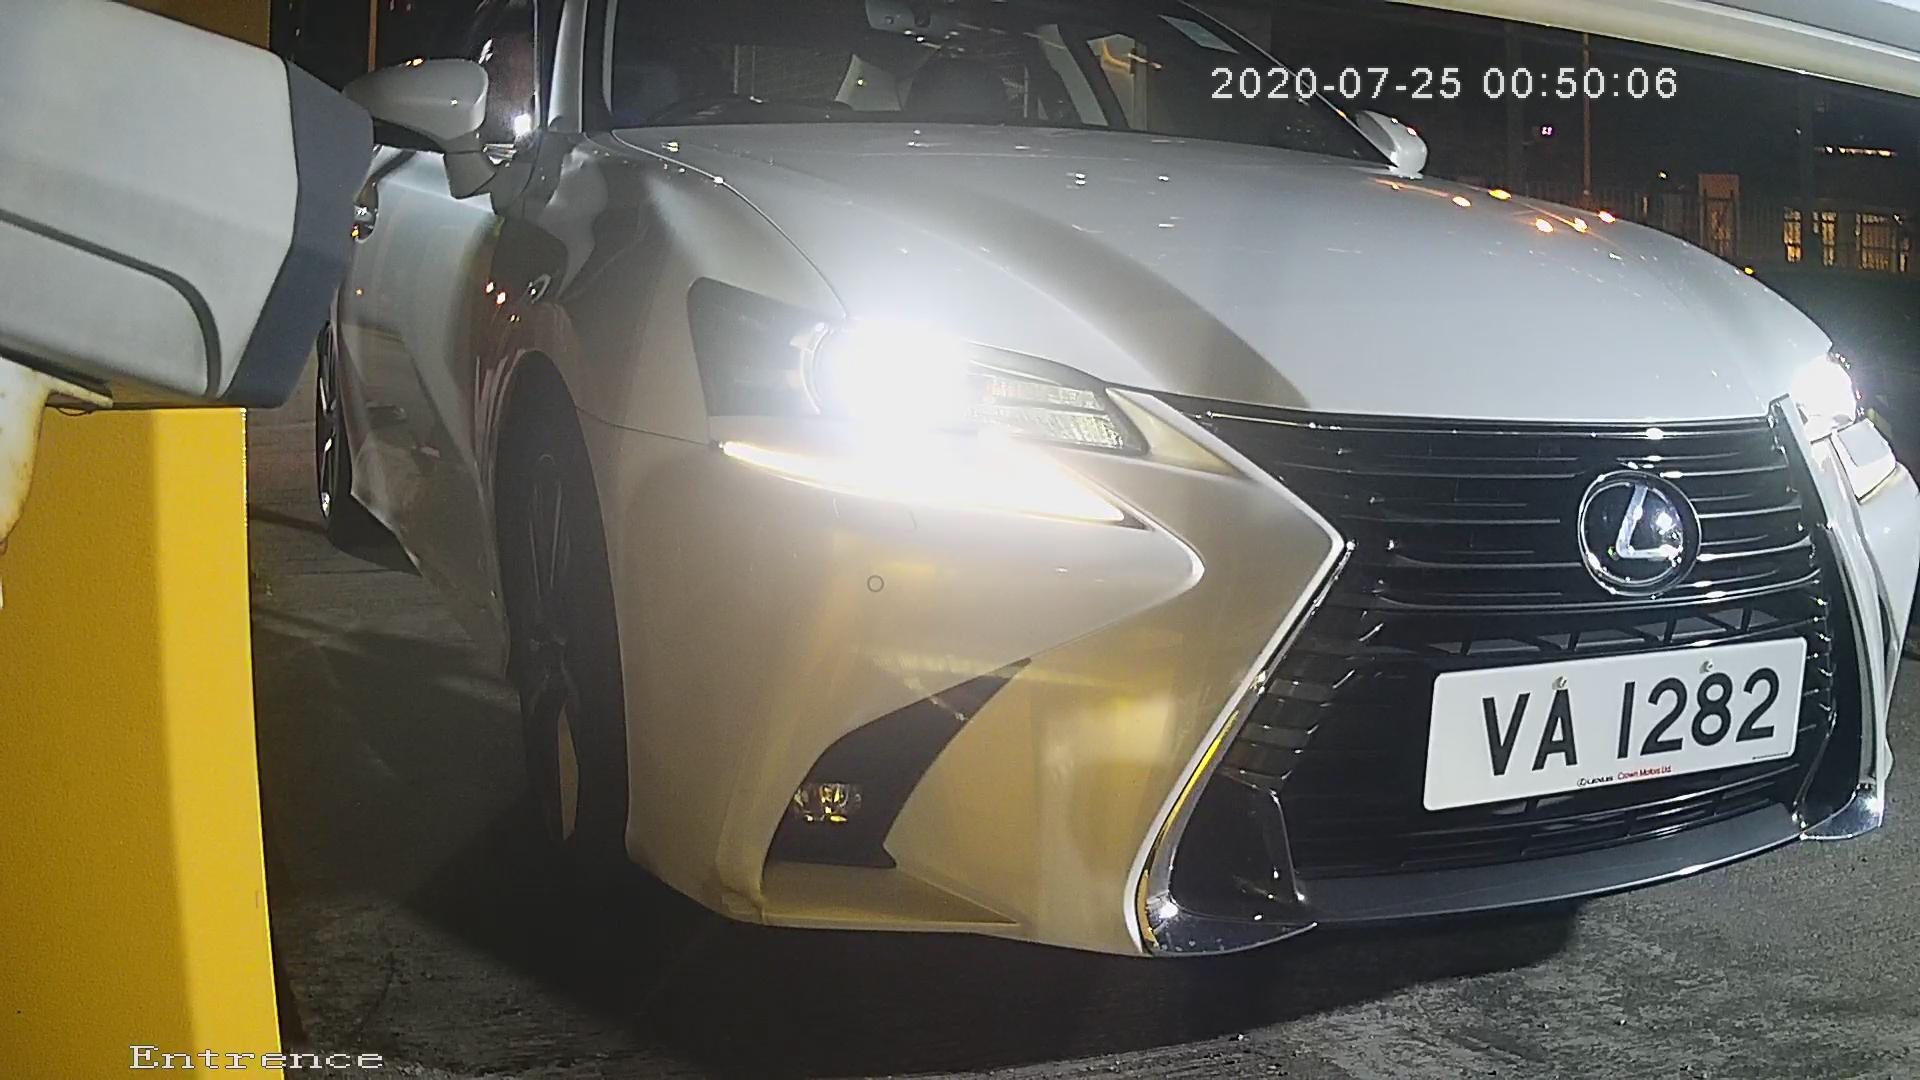License Plate: (1415, 622, 1809, 815)
